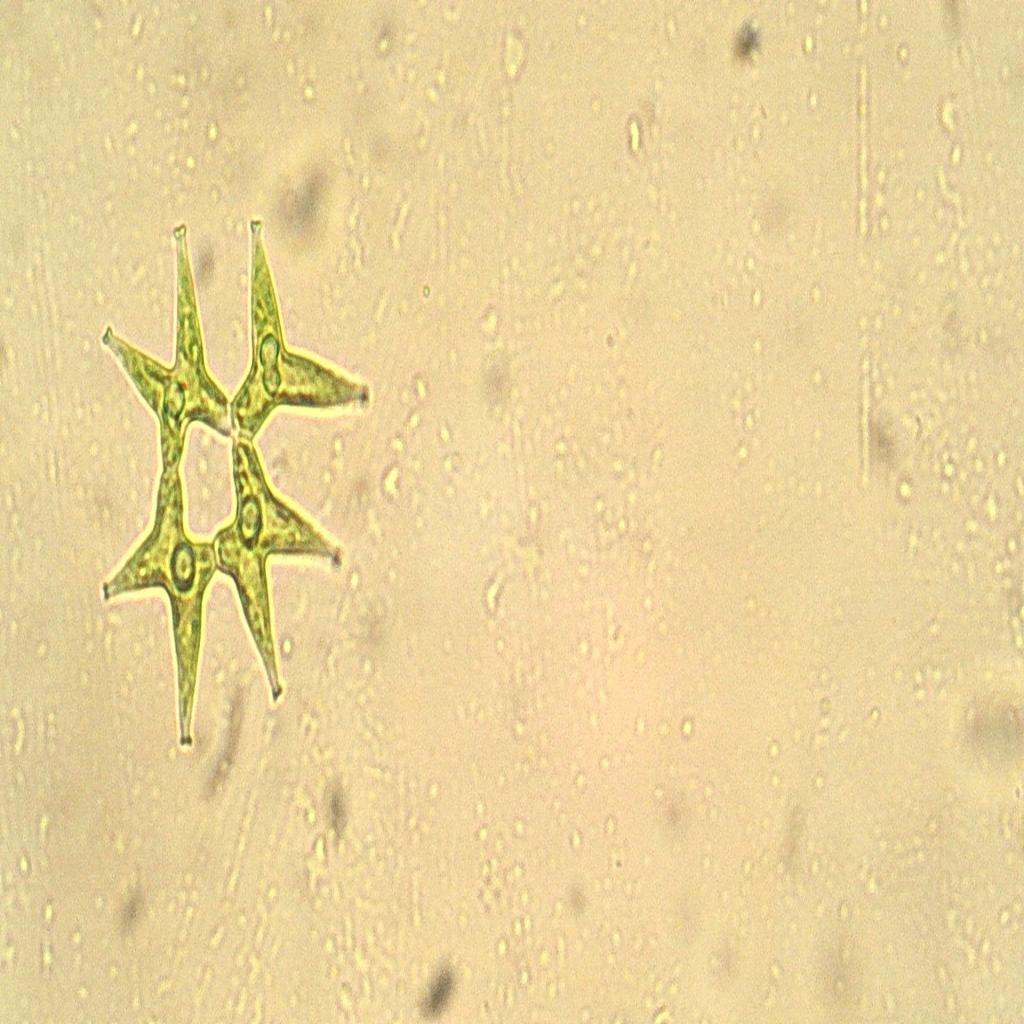Pediastrum_CT: (79, 197, 382, 767)
